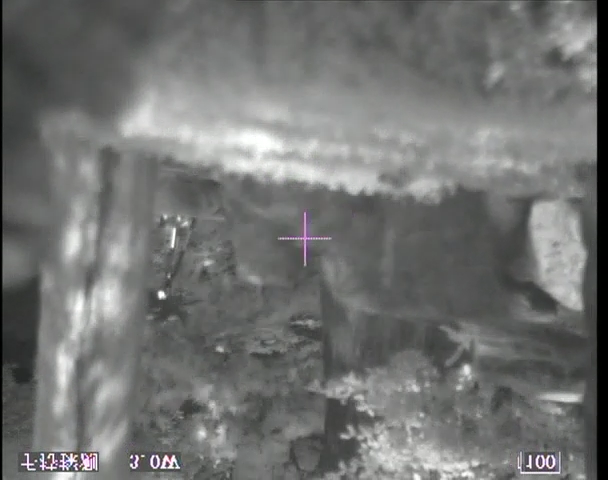my: (156, 290, 165, 300)
